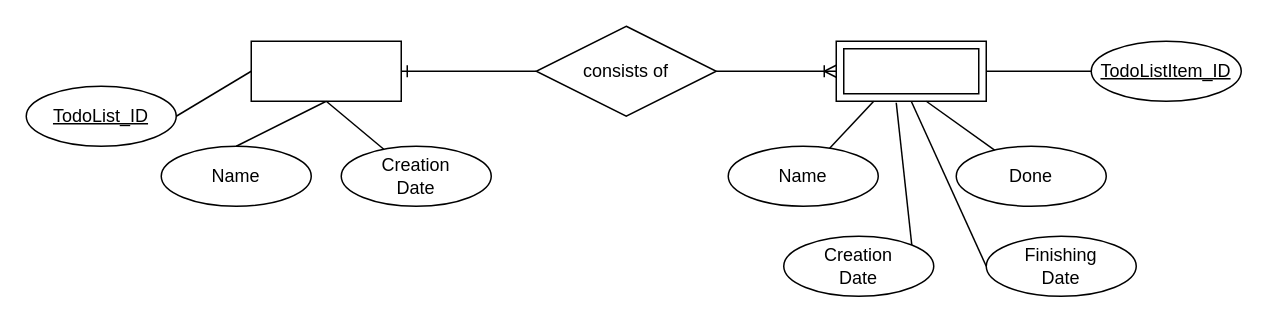
Some shapes in this 1268 by 323 pixel diagram are drawn without their labels. The shapes that lost their labels are listed below. From the top down, each one's box as (x1, y1, x2, y2) in pixels, then its label:
(250, 40, 401, 101): Todo LIst
(835, 40, 986, 101): Todo LIst Item
